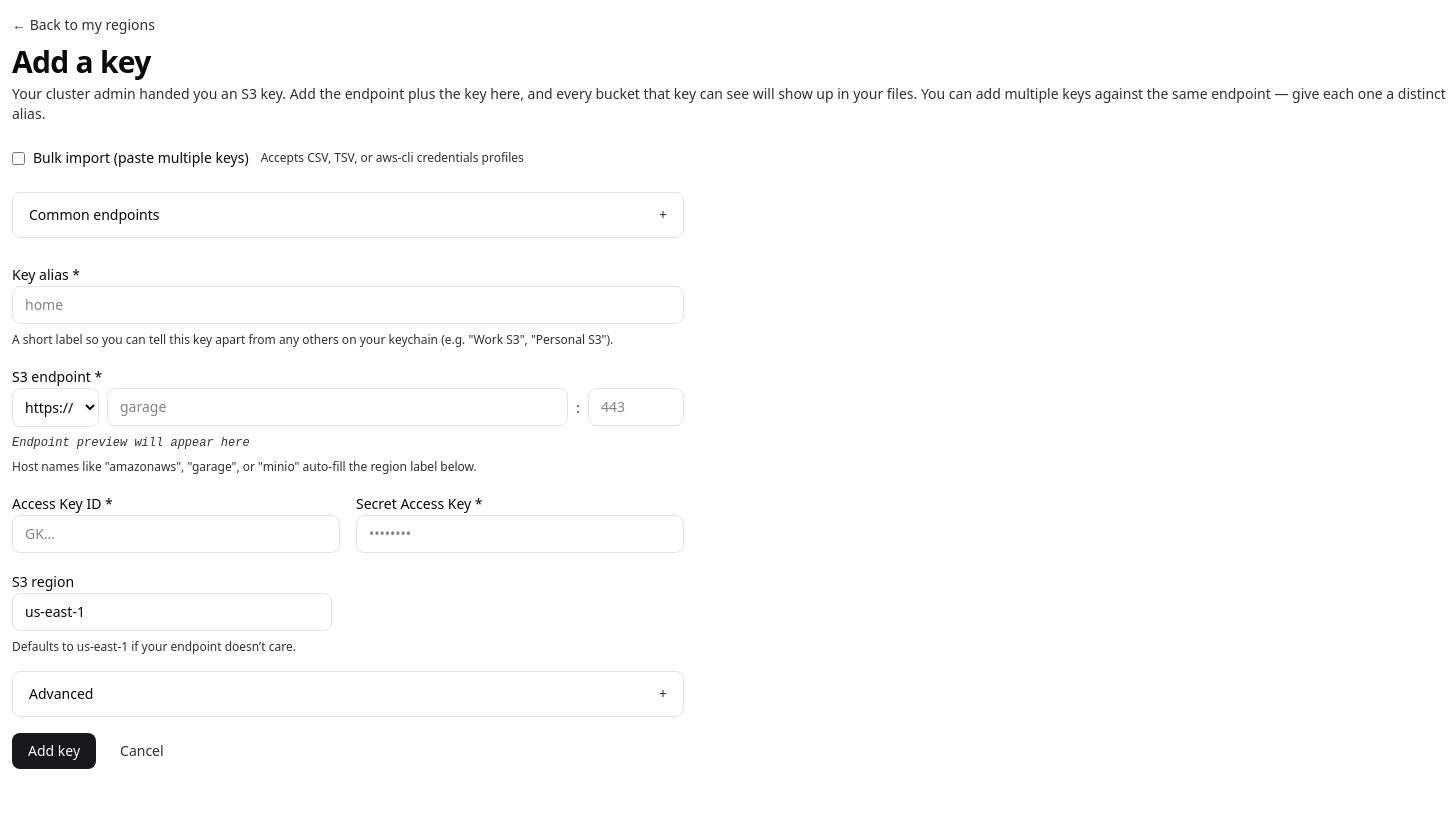
Test: AddKeyPage (/files/keys/new) › renders a 'Common endpoints' expandable and fills both endpoint + region on Use this
Click the button "Common endpoints +": {"x": 94, "y": 214} [13,193,683,237]
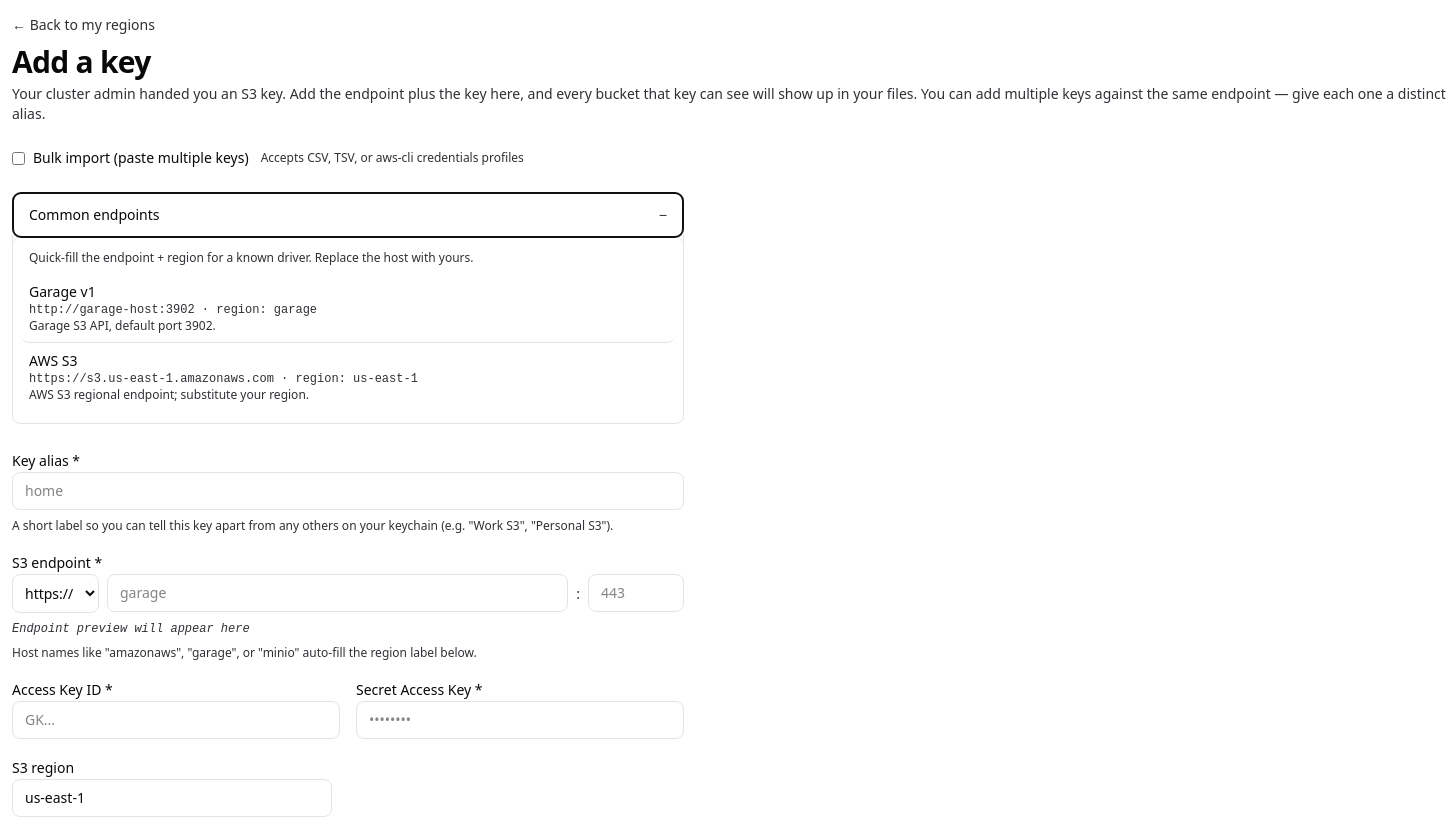
Click the button with test id "use-endpoint-garage-v1": {"x": 62, "y": 292} [21,274,675,342]
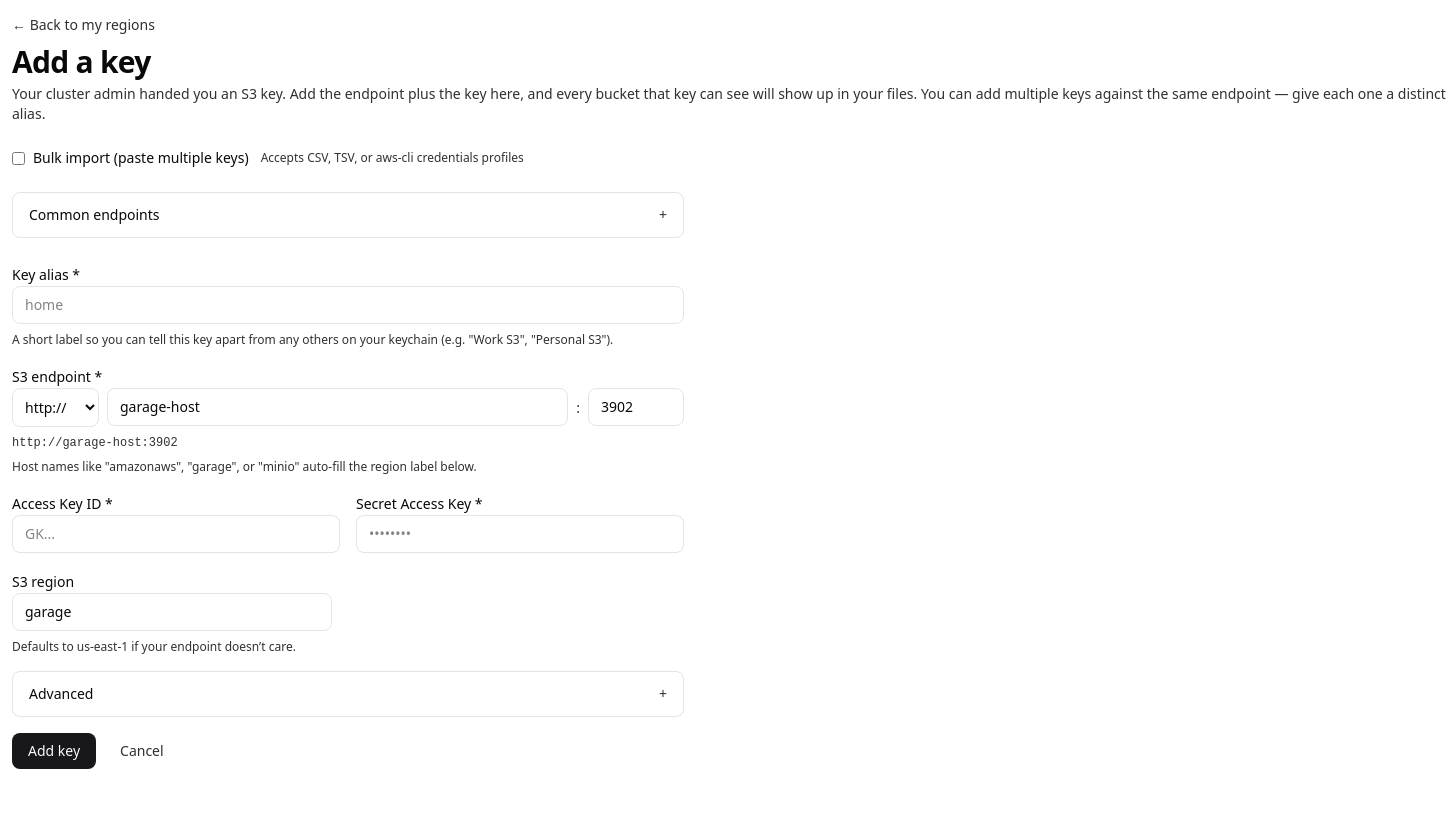
Now the dropdown named "Protocol" shows "http://", box [12,388,99,427]
Now the field named "Host" holds "garage-host", box [107,388,568,426]
Now the field named "Port" holds "3902", box [588,388,684,426]
